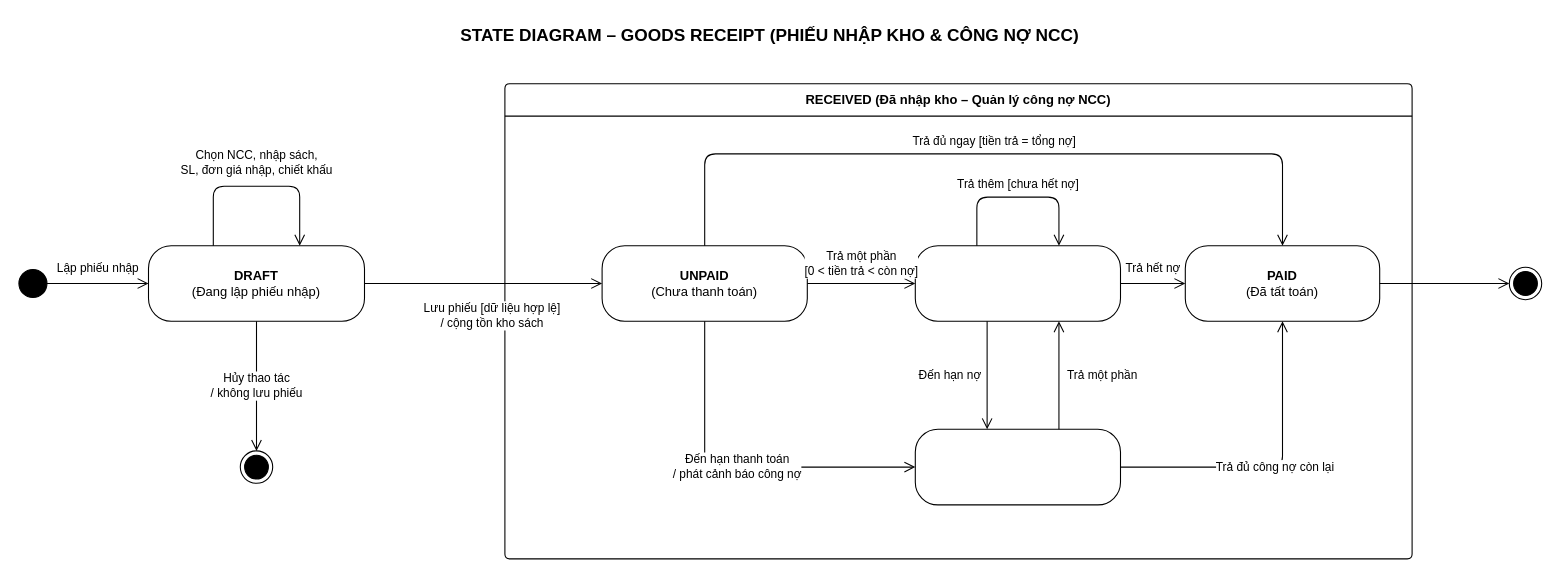
Image size: 1561x578. Some labels were removed from this diagram. Here are the shapes that lost their labels. From the top down, the centre of each, then its label:
the point at 1017,283: PARTIALLY_PAID (Trả một phần)
the point at 1017,466: OVERDUE (Quá hạn công nợ)
